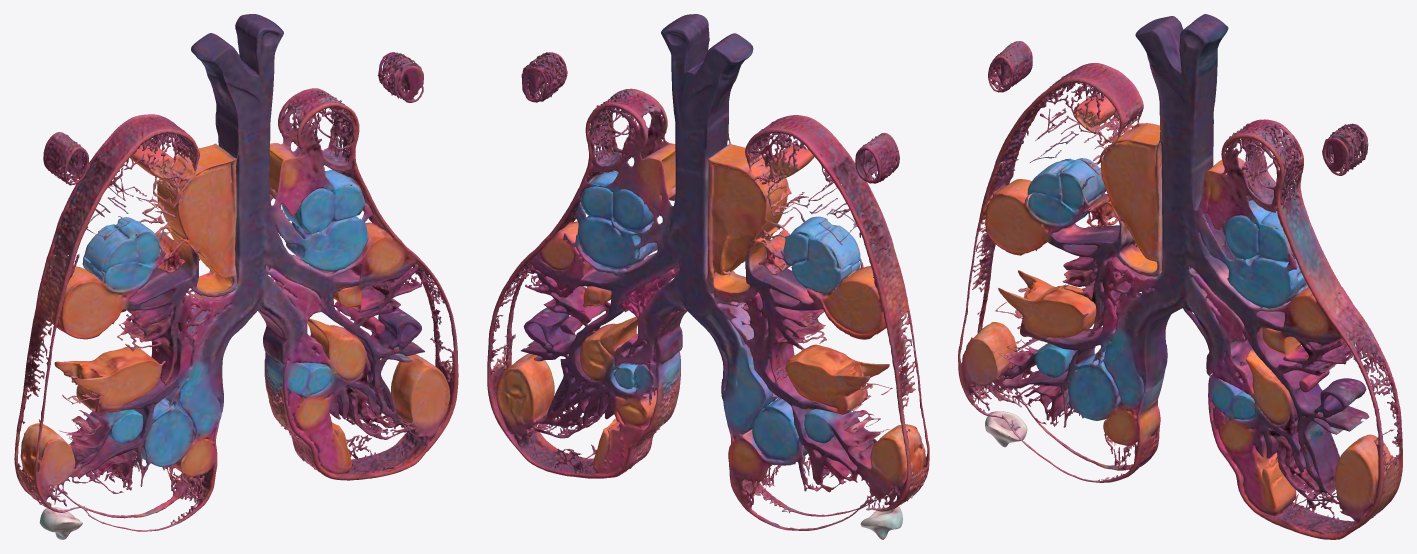
Rendered from lung_inflammation_model.glb.
3 views of the same model, side by side, from view 1: azimuth 30°, elevation 25°; view 2: azimuth 150°, elevation 25°; view 3: azimuth 330°, elevation 25° (orthographic).
Parts seen in each view (by area): view 1: AsmaModel; view 2: AsmaModel; view 3: AsmaModel.
Boxes of the visible parts, x1,y1,x2,y2 form: AsmaModel: (14,14,458,539); AsmaModel: (487,14,929,539); AsmaModel: (958,14,1402,539).
Size of the model in its own units: 1.85 by 1.99 by 0.1696.
Materials: 1 (1 with a texture image).
